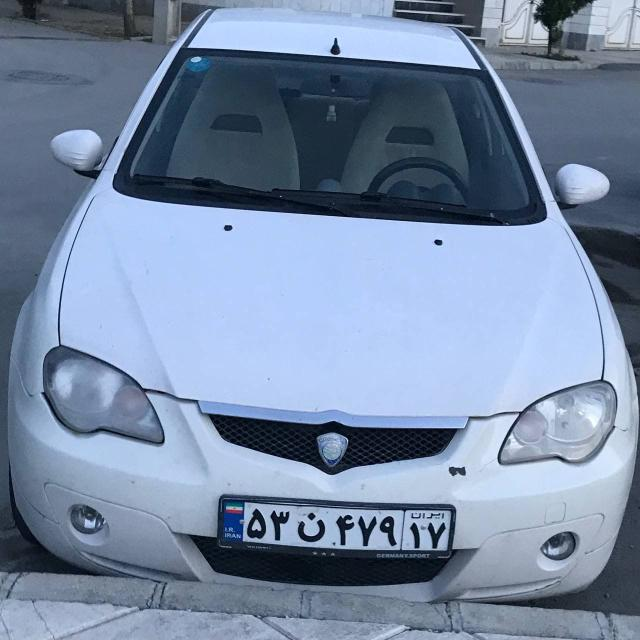Plates: (221, 499, 451, 554)
